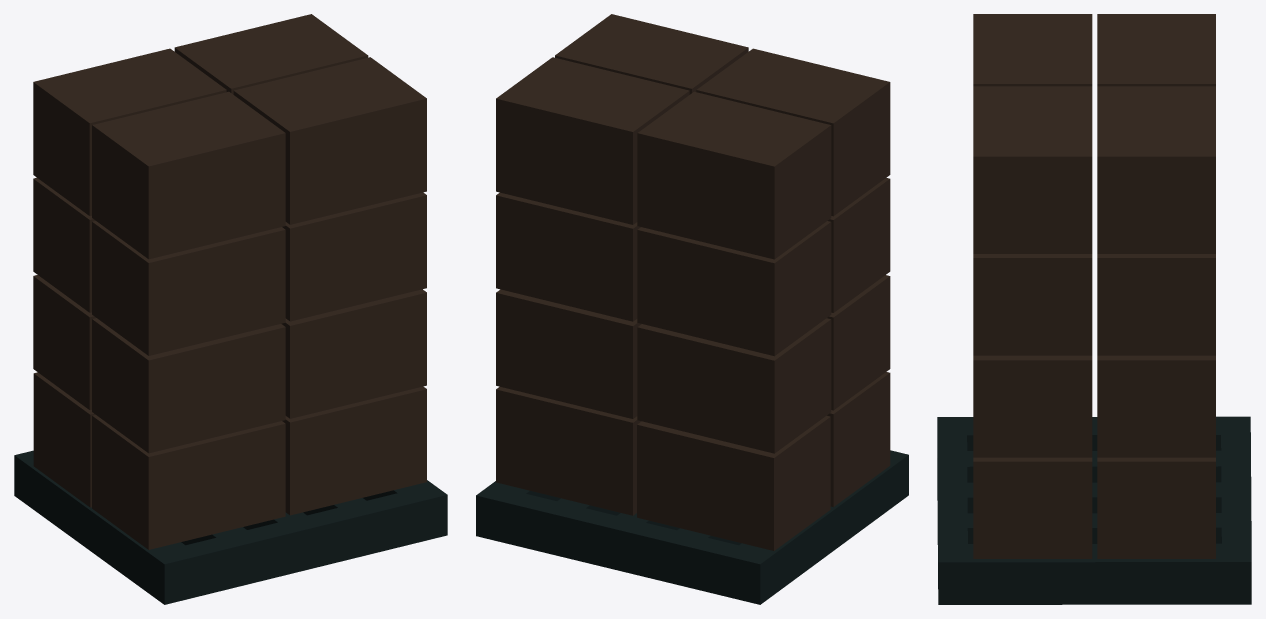
Rendered from palette.obj.
3 renders of one model, left to right at view 1: azimuth 30°, elevation 25°; view 2: azimuth 150°, elevation 25°; view 3: azimuth 270°, elevation 25°, orthographic. The views are drawn at different scales.
Visible parts, largest first — view 1: Cube.14146_Cube.14220; view 2: Cube.14146_Cube.14220; view 3: Cube.14146_Cube.14220.
Part boxes in pixels (bbox=[...]): Cube.14146_Cube.14220: bbox=[14, 14, 447, 604]; Cube.14146_Cube.14220: bbox=[476, 14, 908, 604]; Cube.14146_Cube.14220: bbox=[937, 14, 1251, 604].
Bounding box in the file's own units: 1.35 × 1.93 × 1.23.
